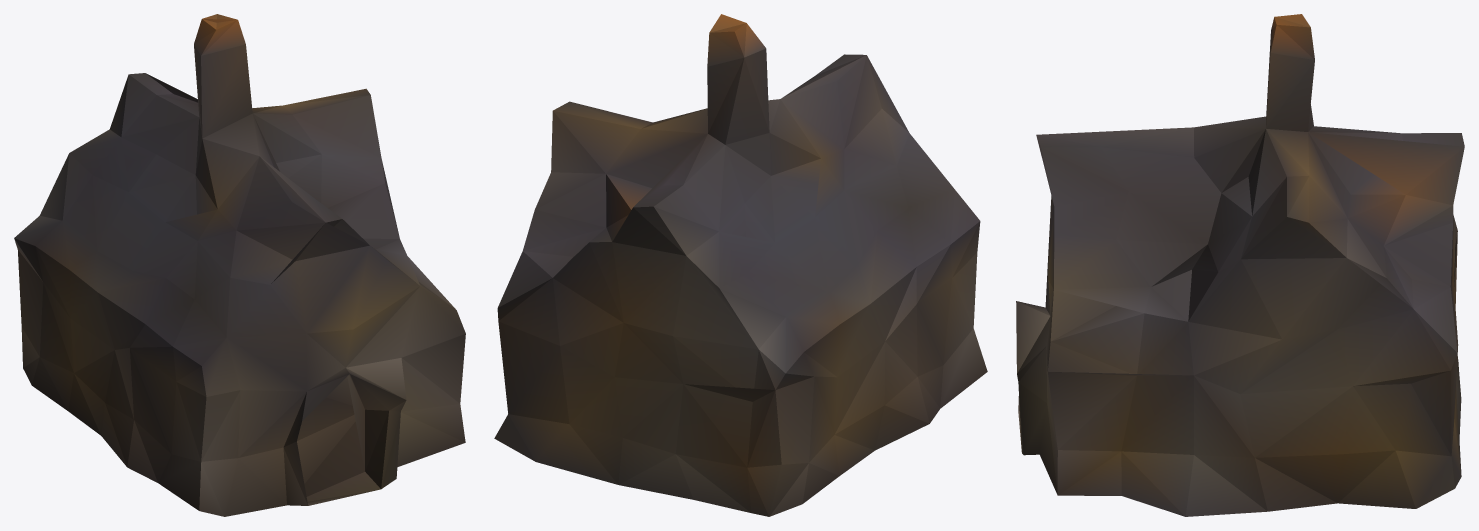
The model's file is distillery.glb.
The picture shows the model from 3 angles, left to right: view 1: azimuth 30°, elevation 25°; view 2: azimuth 150°, elevation 25°; view 3: azimuth 270°, elevation 25°; orthographic projection. The views are drawn at different scales.
Parts seen in each view (by area): view 1: distillery-far; view 2: distillery-far; view 3: distillery-far.
Part boxes in pixels (x1,y1,x2,y2): distillery-far: (14, 14, 465, 516); distillery-far: (494, 14, 987, 516); distillery-far: (1016, 14, 1464, 516).
Size of the model in its own units: 0.7682 by 0.9659 by 0.9395.
